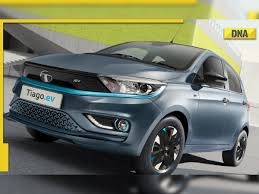Tiago: (5, 38, 250, 178)
